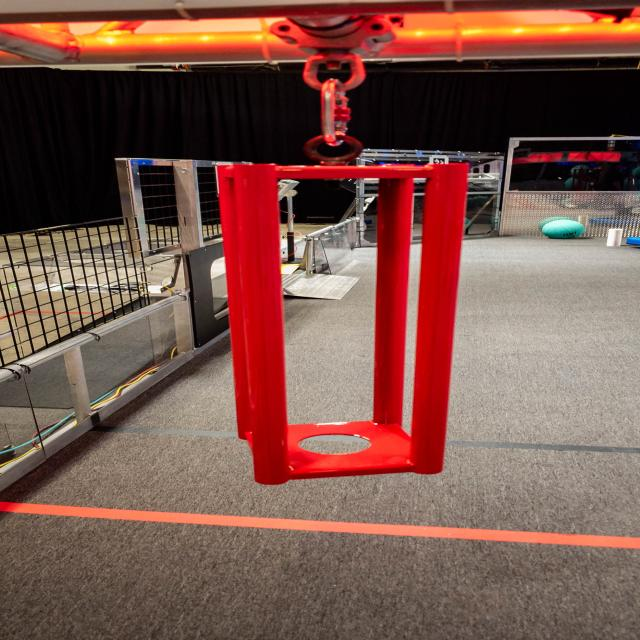Algae: (541, 220, 585, 239)
Coral: (606, 228, 623, 246)
